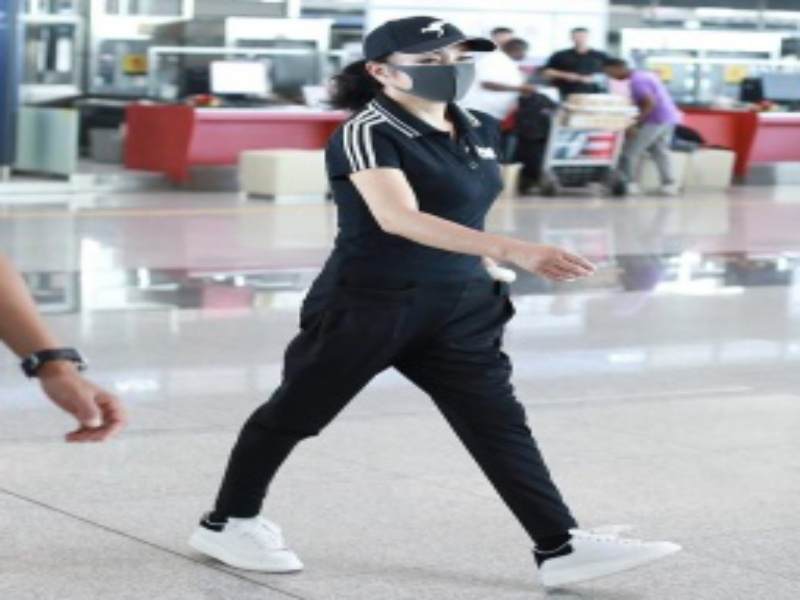ManaoArotava: (370, 1, 489, 132)
